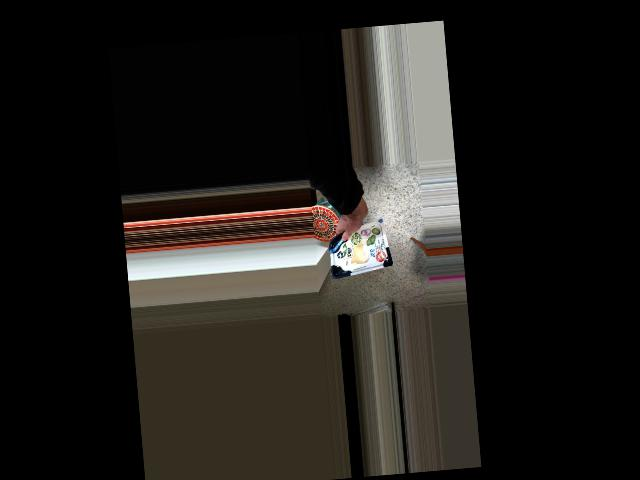cheese: (337, 209, 390, 262)
